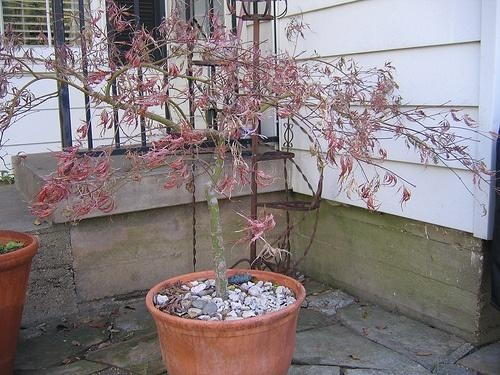pottedplant: (2, 3, 500, 375), (1, 229, 40, 375)
